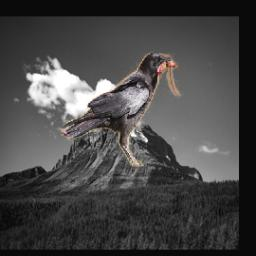Crow: (61, 48, 184, 168)
